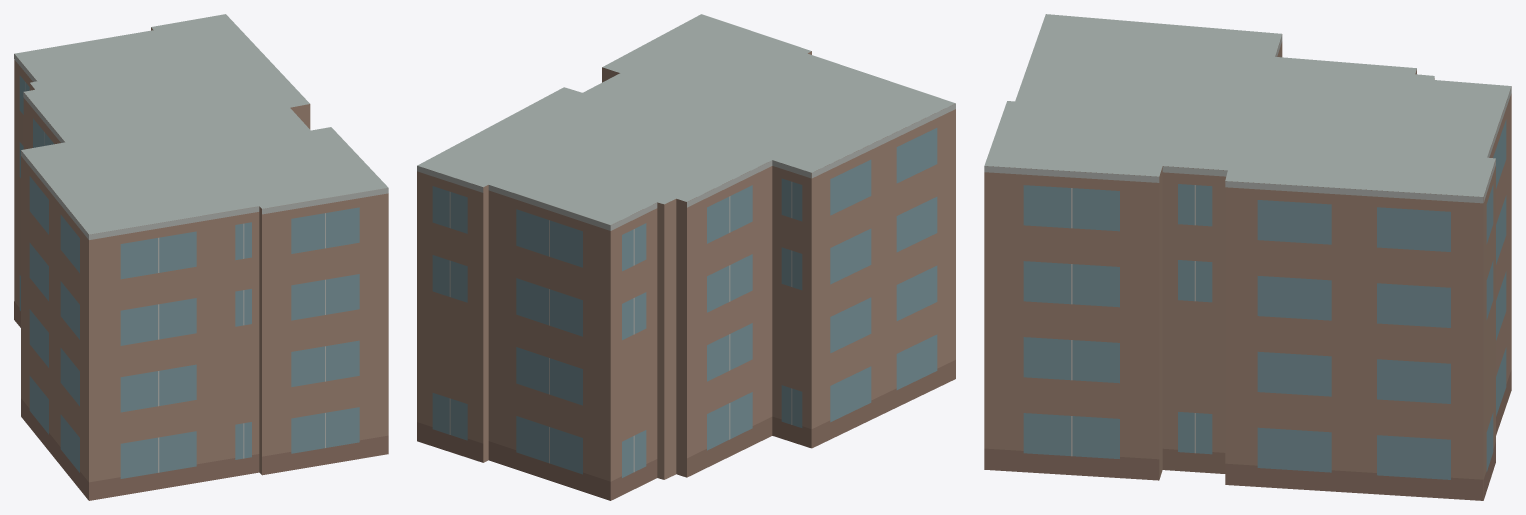
File: survey-upis-32509610.glb
3 views of the same model, side by side, from view 1: azimuth 30°, elevation 25°; view 2: azimuth 150°, elevation 25°; view 3: azimuth 270°, elevation 25° (orthographic). The views are drawn at different scales.
Parts seen in each view (by area): view 1: survey-upis-32509610.tmp; view 2: survey-upis-32509610.tmp; view 3: survey-upis-32509610.tmp.
Boxes of the visible parts, x1,y1,x2,y2 form: survey-upis-32509610.tmp: [14, 14, 388, 500]; survey-upis-32509610.tmp: [417, 14, 955, 500]; survey-upis-32509610.tmp: [984, 14, 1511, 500].
Size of the model in its own units: 15.12 by 11.7 by 18.41.
